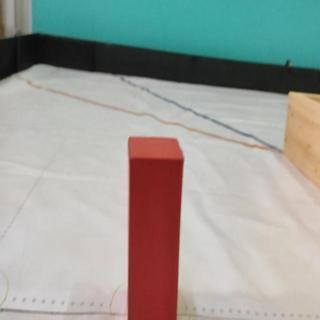redbox: (129, 133, 184, 320)
